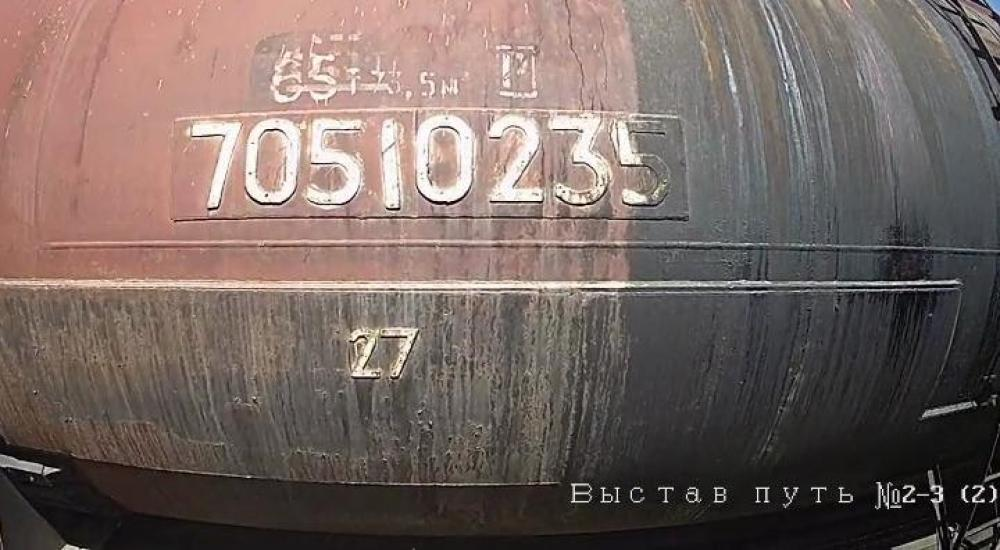Wagon-number: (187, 115, 676, 218)
